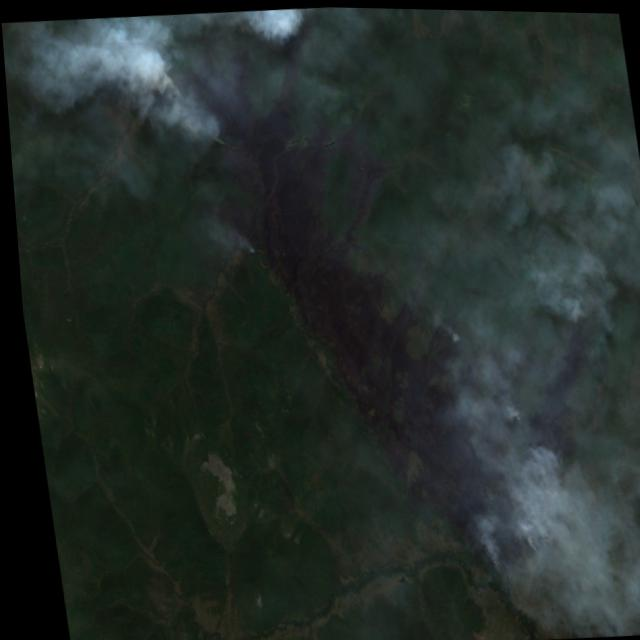fire: (453, 446, 566, 579), (141, 53, 233, 153), (556, 288, 591, 330), (259, 6, 299, 41)
